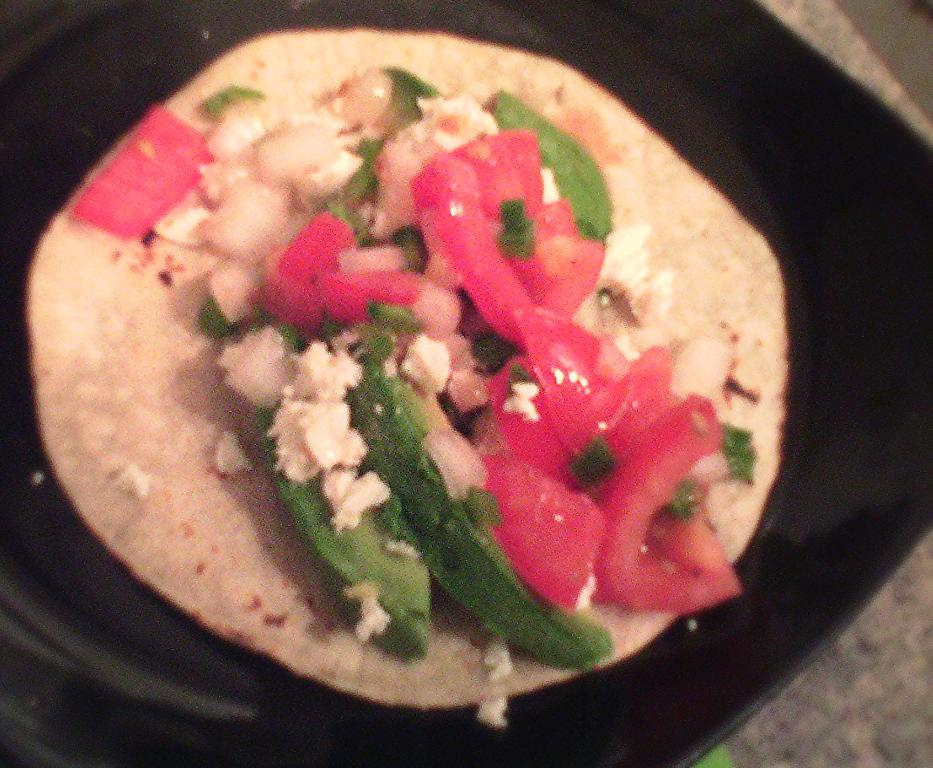taco: (23, 24, 788, 710)
